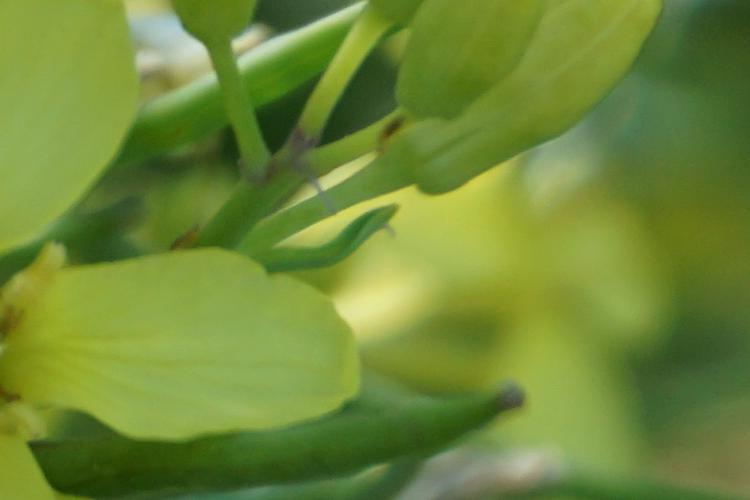bud: (391, 6, 673, 180), (402, 3, 548, 132)
pod: (187, 366, 560, 473)
yellow: (1, 1, 379, 489)
